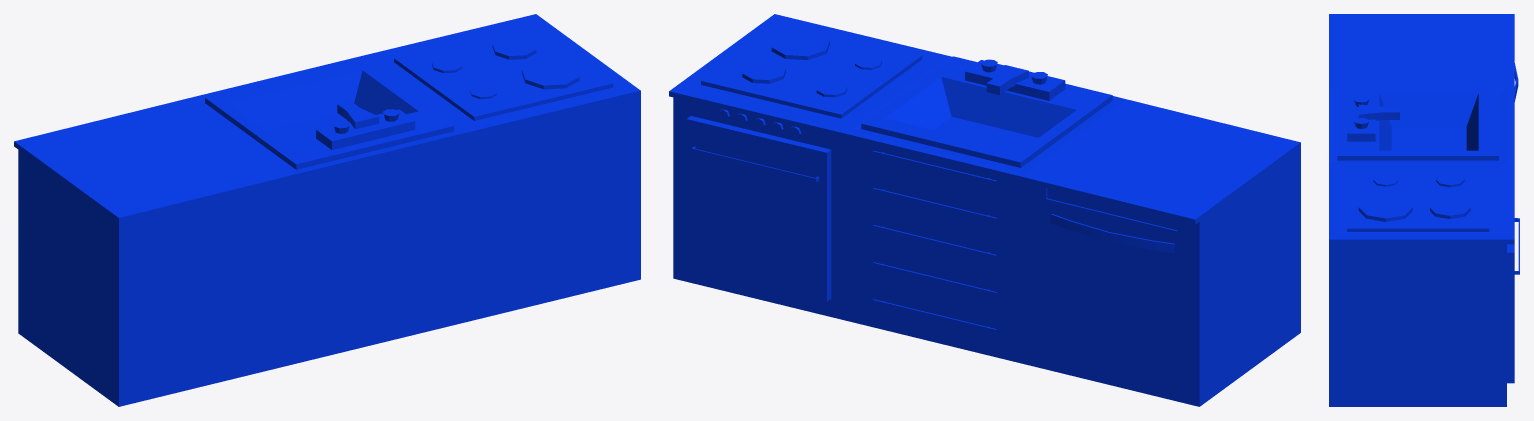
Rendered from Cocina.FBX.
3 views of the same model, side by side, from view 1: azimuth 30°, elevation 25°; view 2: azimuth 150°, elevation 25°; view 3: azimuth 270°, elevation 25° (orthographic). The views are drawn at different scales.
Visible parts, largest first — view 1: Cocina; view 2: Cocina; view 3: Cocina.
Part boxes in pixels (<box>): Cocina: <box>14,14,640,406</box>; Cocina: <box>669,14,1300,406</box>; Cocina: <box>1329,14,1519,406</box>.
Size of the model in its own units: 3 by 1.16 by 1.07.
